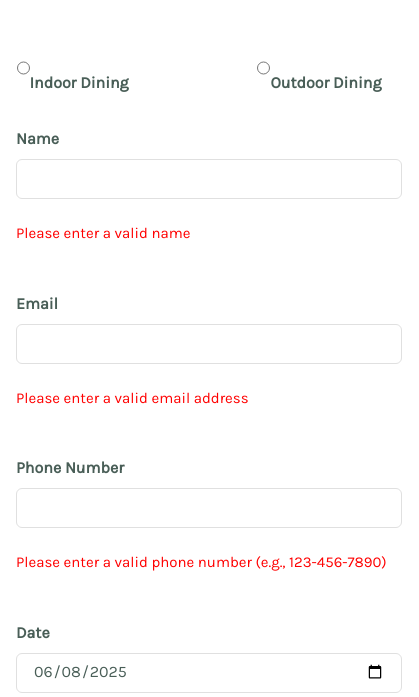
Test: Booking form › should correctly render all fields and their default values
Note: Fill required fields to pass form validation
Type "Ash" into the field labelled "Name" at (209, 179), box [16, 159, 402, 199]
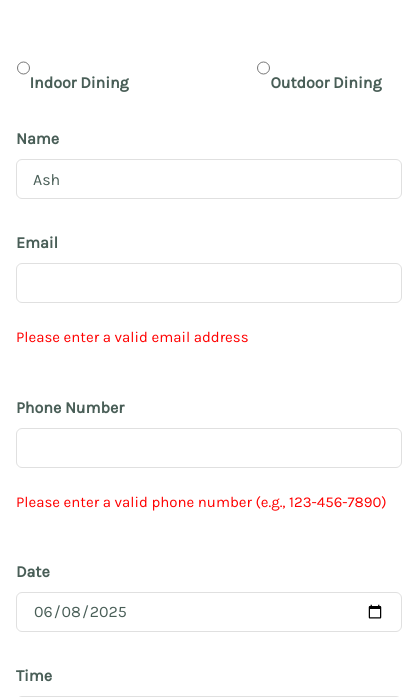
Type "ash@example.com" into the field labelled "Email" at (209, 283), box [16, 263, 402, 303]
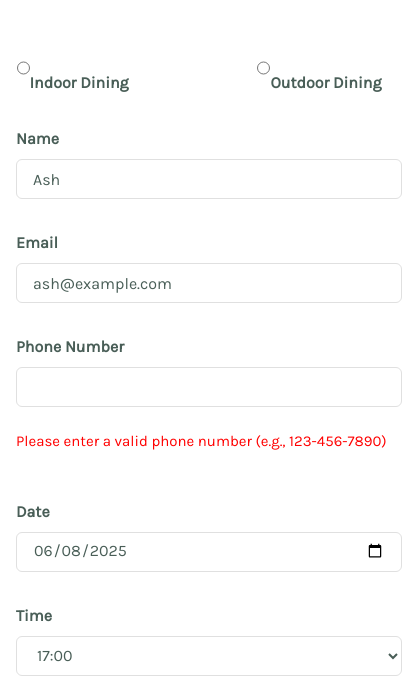
Type "123-456-7890" into the field labelled "Phone Number" at (209, 387), box [16, 367, 402, 407]
(page scrolled)
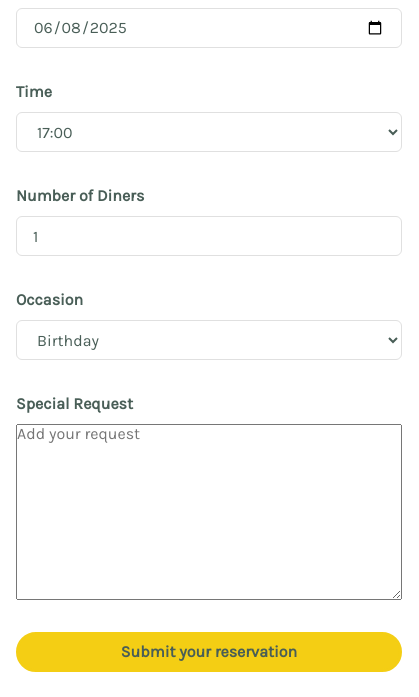
Expected: the date field labelled "Date" is shown, [16, 8, 402, 48]
Now the button is enabled, box [16, 632, 402, 672]
